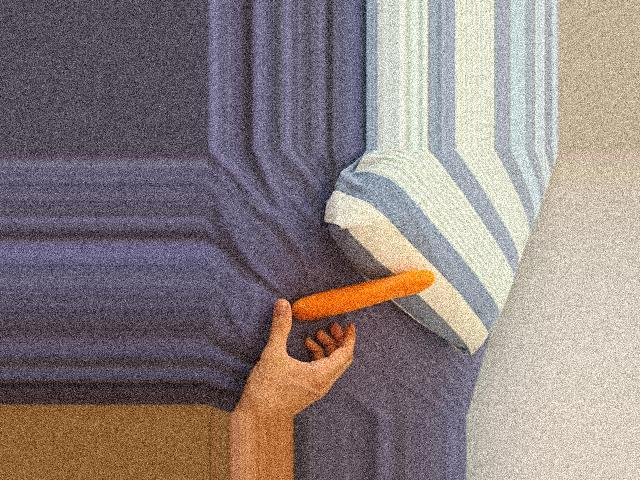carrot: (289, 270, 433, 321)
